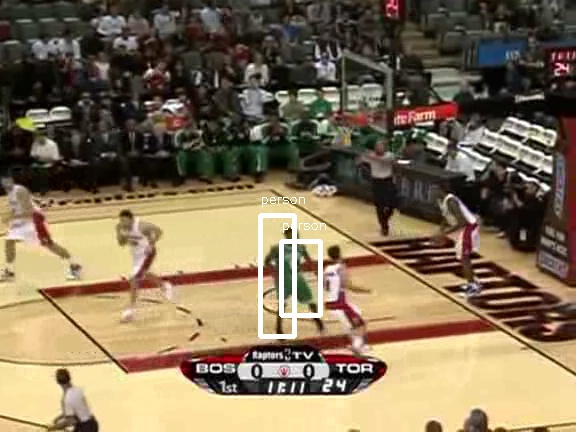person: (275, 233, 309, 314), (274, 233, 308, 314), (276, 233, 310, 314), (275, 232, 309, 313), (275, 234, 309, 315)
target_negative: (210, 21, 454, 367), (27, 249, 480, 354), (440, 7, 526, 416), (129, 174, 545, 231), (545, 236, 569, 391), (524, 12, 540, 209)
